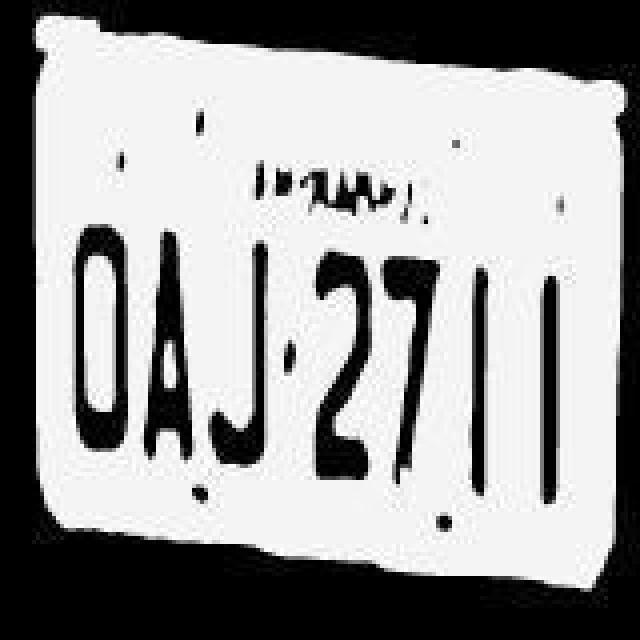1: (526, 252, 578, 516), (454, 246, 506, 506)
2: (302, 242, 378, 494)
7: (374, 250, 442, 486)
A: (134, 218, 202, 470)
J: (208, 238, 280, 474)
O: (58, 216, 134, 472)
